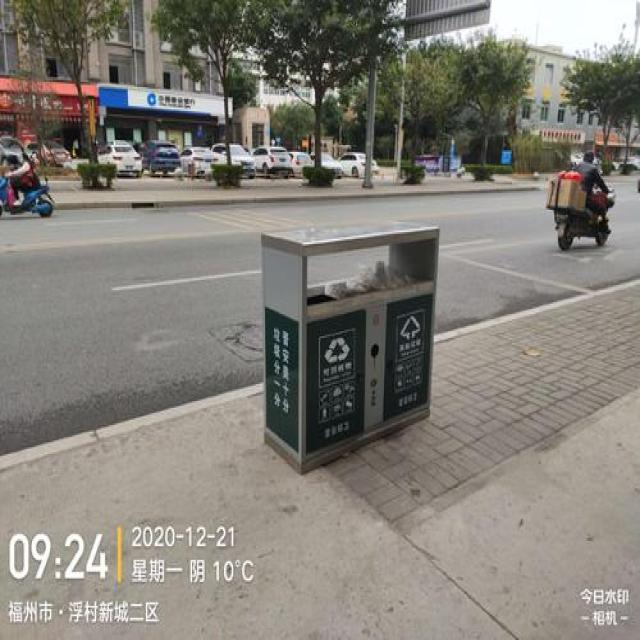garbage_bin: (257, 218, 439, 473)
